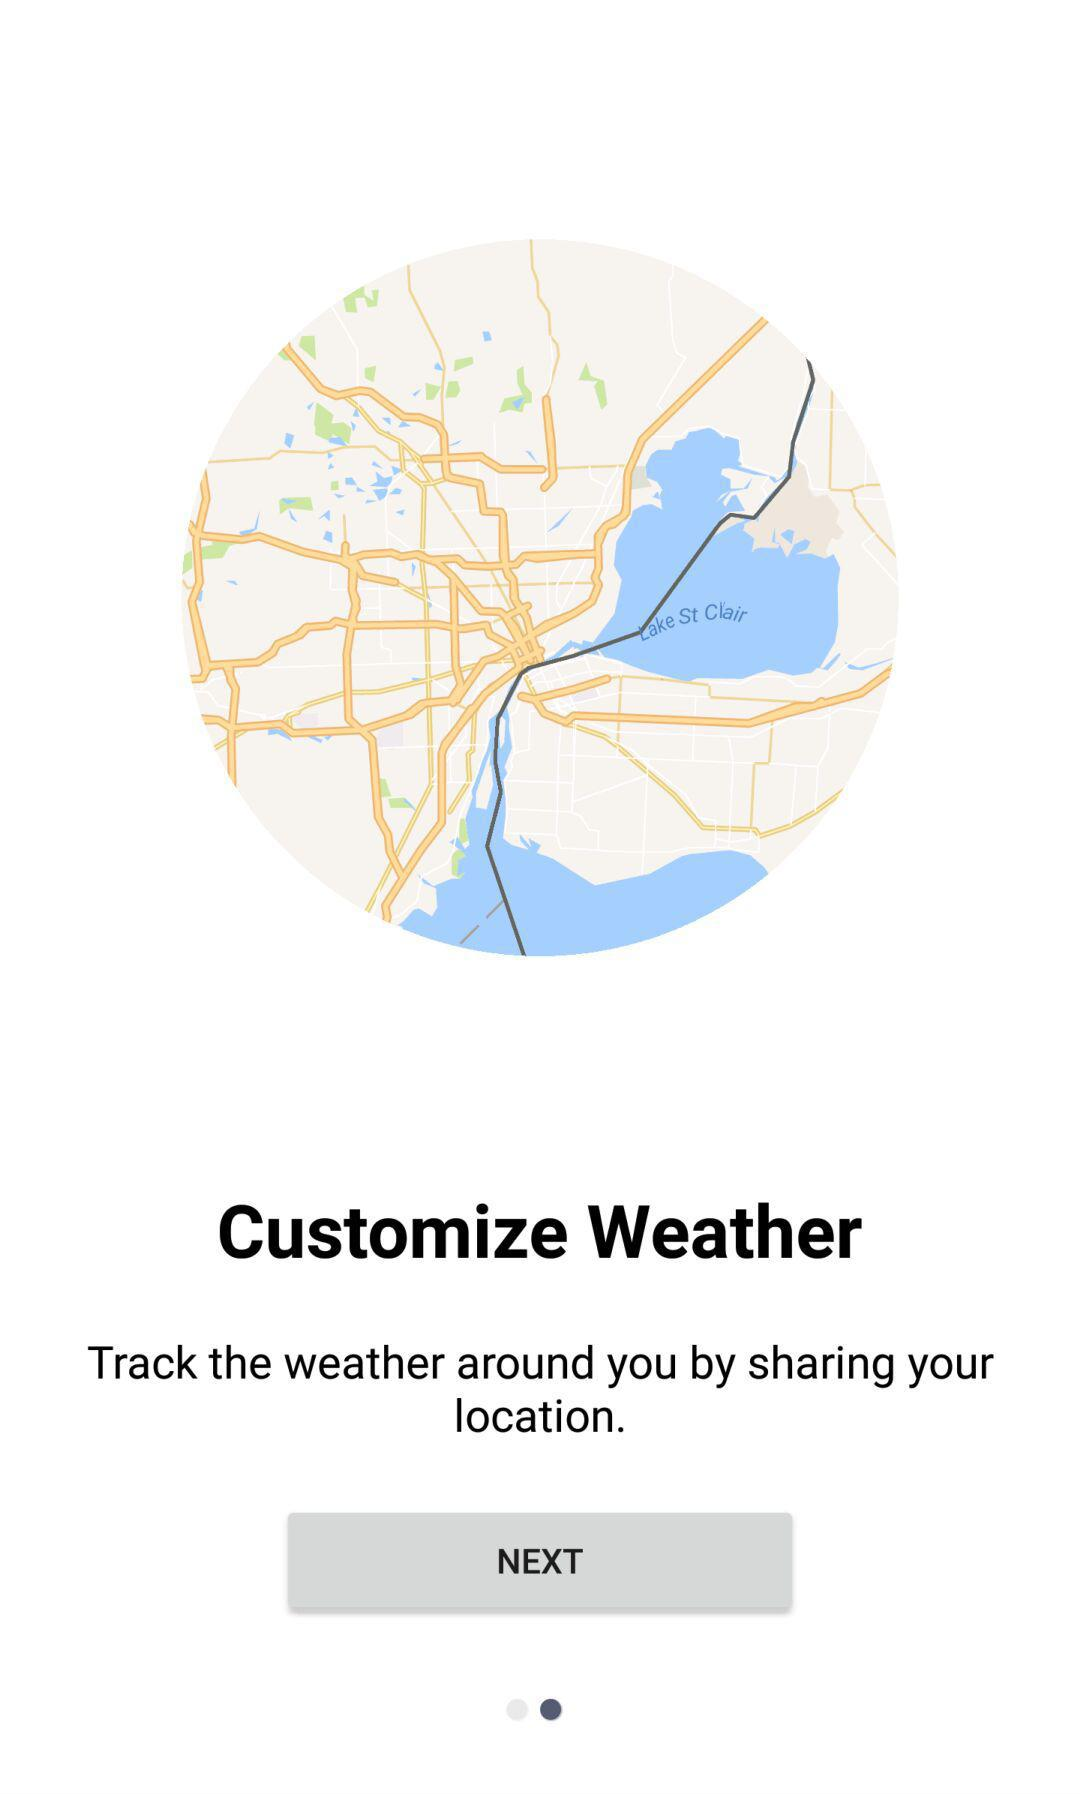Image: (179, 238, 901, 959)
PageIndicator: (505, 1697, 562, 1722)
Text: (88, 1344, 995, 1434), (220, 1202, 863, 1260)
TextButton: (288, 1512, 793, 1615)
